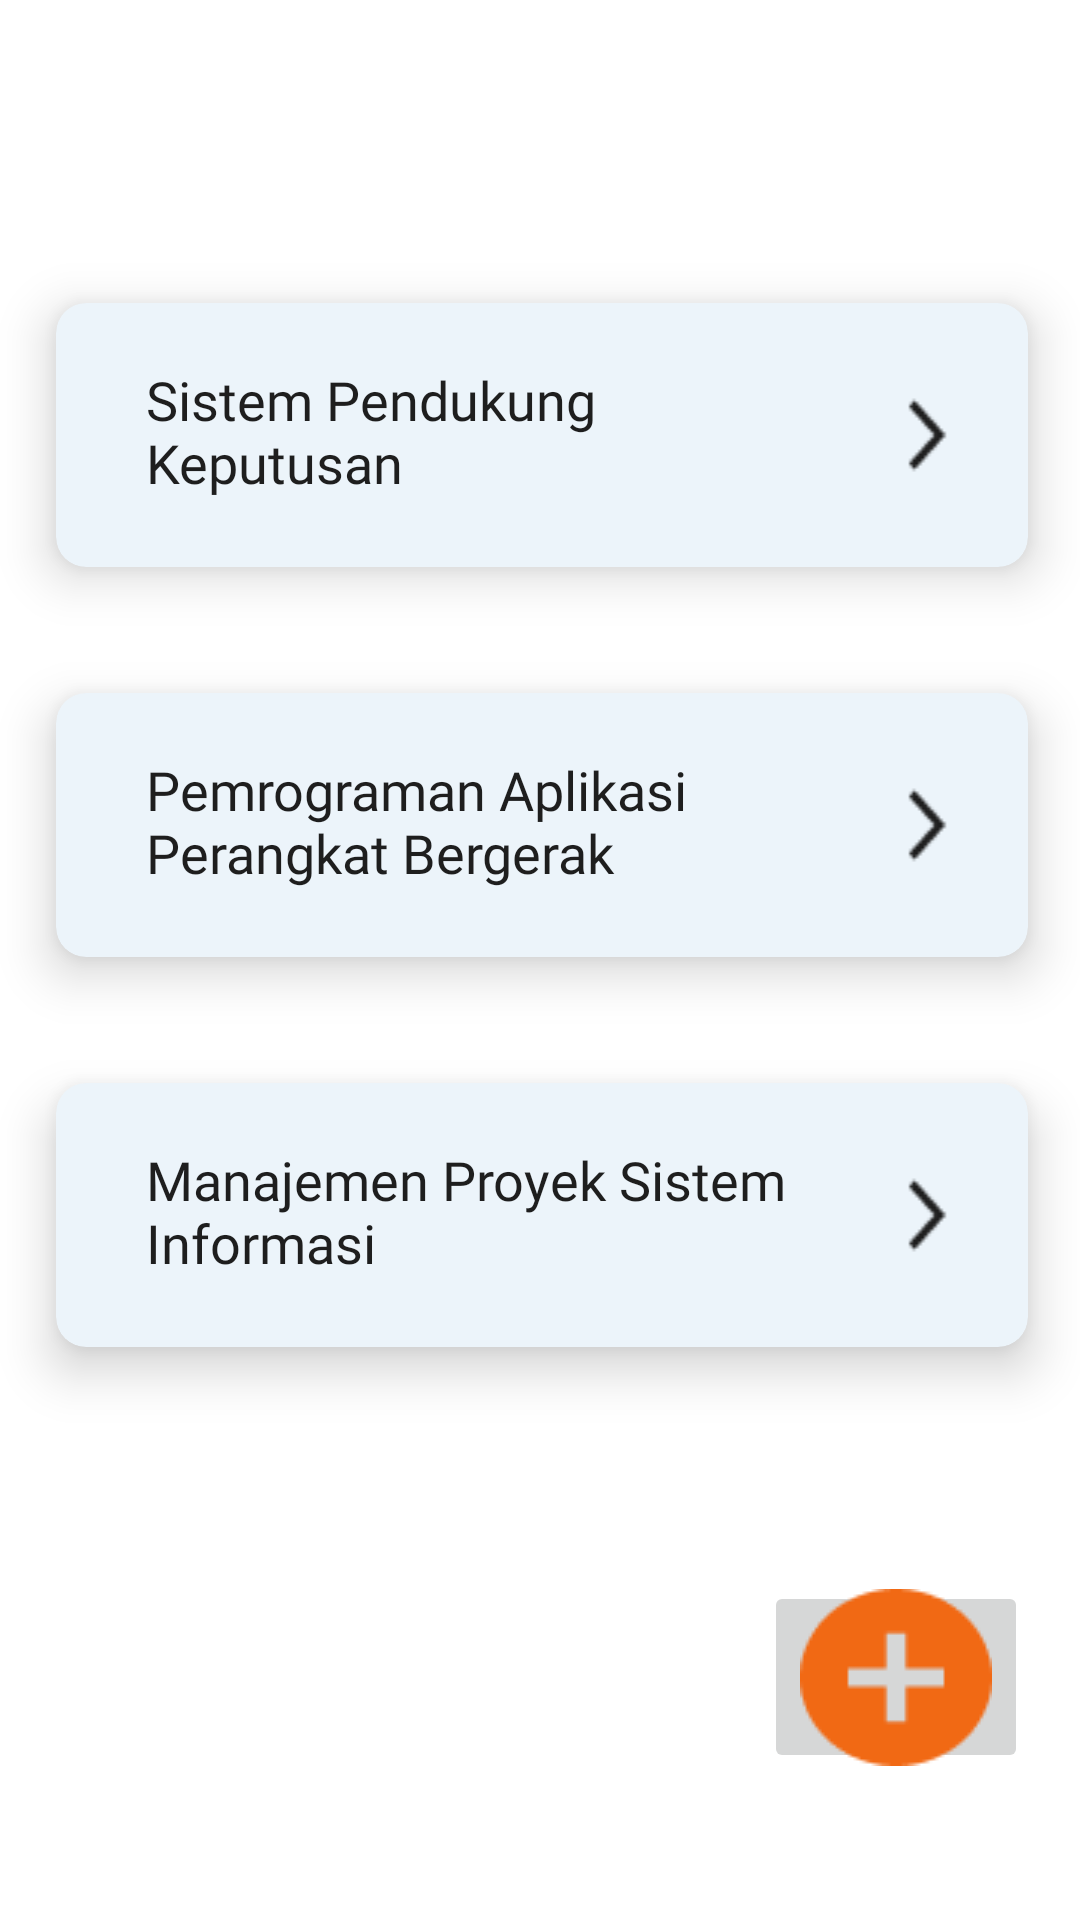

Where to tap for icons on this 1080px x 1920px app screen, as (x=x, y=y):
arrow: (x=927, y=435), (x=927, y=825), (x=927, y=1215)
